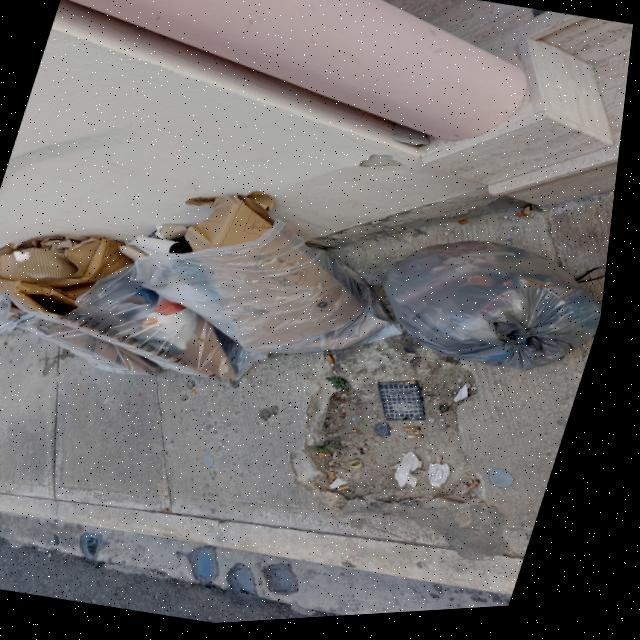Mixed Waste -Black Bag-: (356, 212, 620, 413)
Recycled Waste -Grey or Green Bag-: (103, 162, 440, 409), (1, 204, 303, 404), (1, 285, 188, 392)
